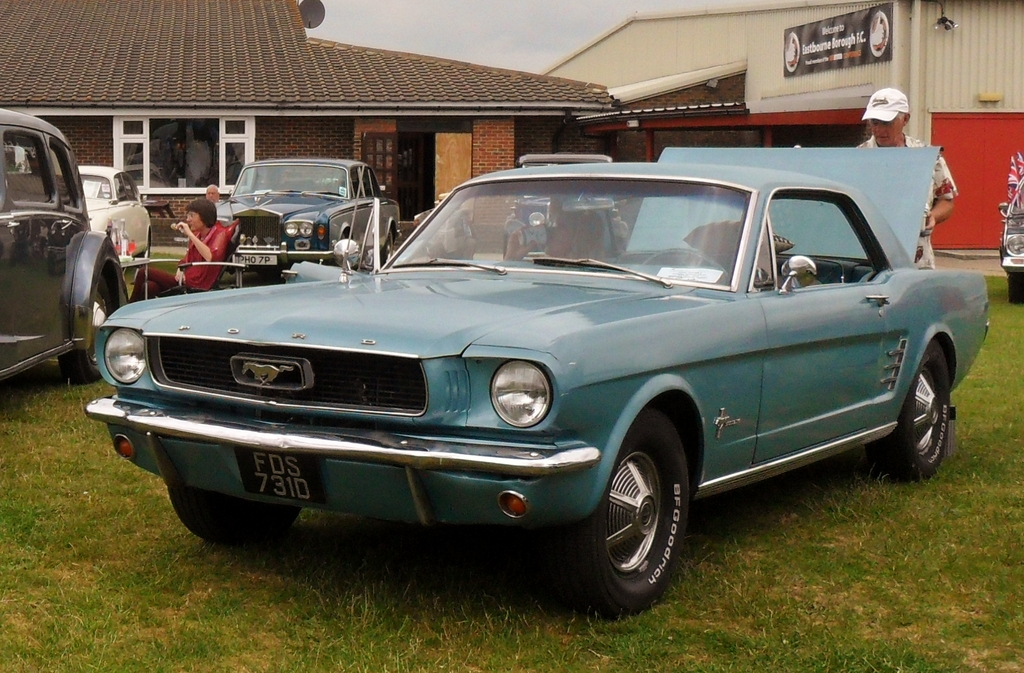mobil: (112, 168, 995, 608)
